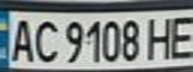0: (100, 17, 124, 64)
1: (84, 17, 103, 63)
8: (121, 16, 145, 63)
9: (60, 17, 84, 64)
A: (3, 15, 36, 63)
C: (30, 16, 60, 64)
E: (166, 11, 193, 60)
H: (142, 12, 178, 61)
